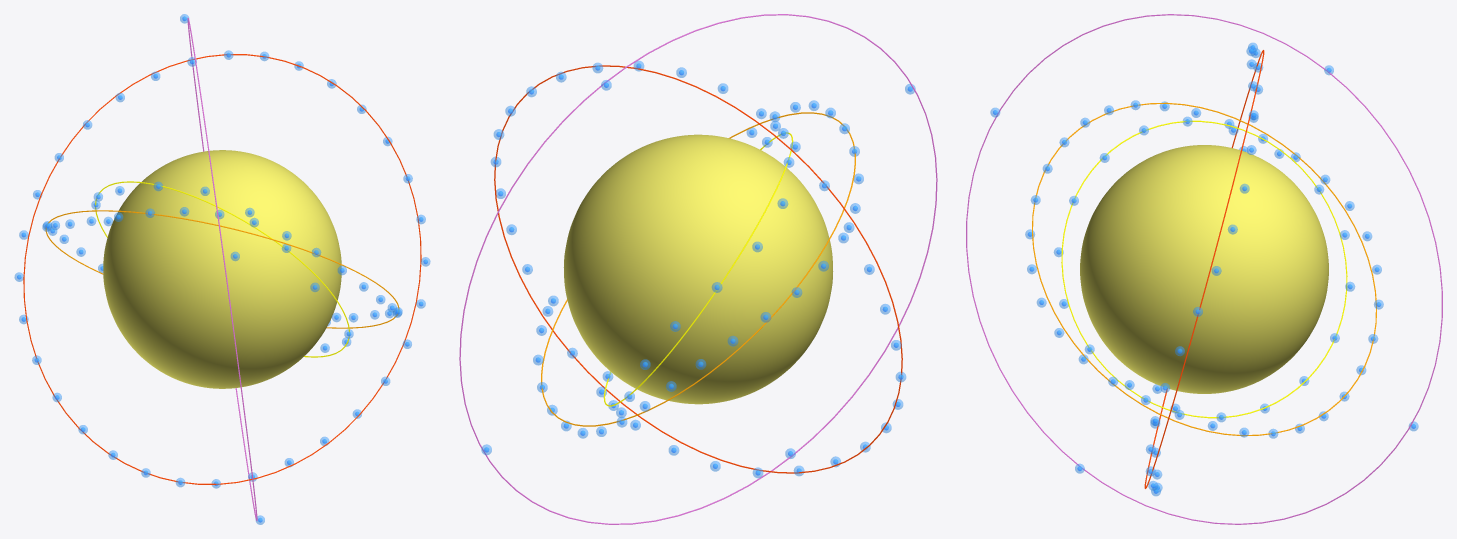
The picture shows the model from 3 angles, left to right: view 1: azimuth 30°, elevation 25°; view 2: azimuth 150°, elevation 25°; view 3: azimuth 270°, elevation 25°; orthographic projection. The views are drawn at different scales.
Parts seen in each view (by area): view 1: Cm, object 126, object 191, object 61, object 24; view 2: Cm, object 191, object 126, object 61, object 24; view 3: Cm, object 191, object 61, object 24, object 126.
Boxes of the visible parts, x1,y1,x2,y2 form: Cm: (103,150,341,388); object 126: (23,54,421,484); object 191: (187,18,257,520); object 61: (45,210,399,328); object 24: (95,181,349,357); Cm: (563,134,833,404); object 191: (459,14,937,524); object 126: (494,65,902,473); object 61: (541,112,855,426); object 24: (603,132,793,406); Cm: (1080,145,1328,393); object 191: (966,14,1442,524); object 61: (1032,102,1376,436); object 24: (1061,120,1347,418); object 126: (1144,50,1264,488).
Size of the model in its own units: 7.31 by 8.36 by 7.57.
